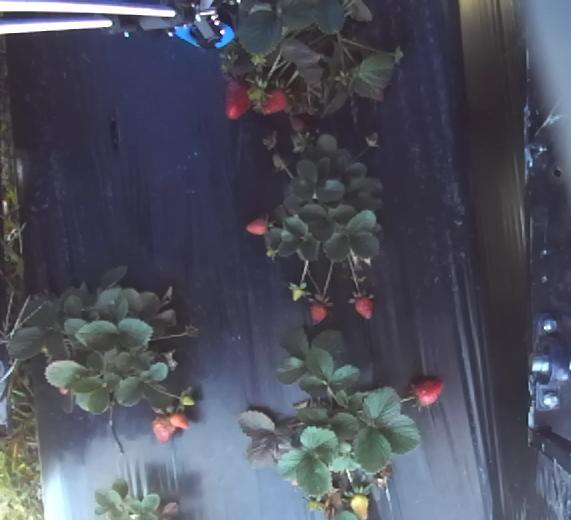mature: (409, 374, 444, 409), (223, 79, 251, 120), (254, 85, 288, 115), (154, 411, 174, 444), (245, 213, 271, 236), (352, 293, 374, 319), (169, 407, 190, 432), (308, 301, 328, 325)
